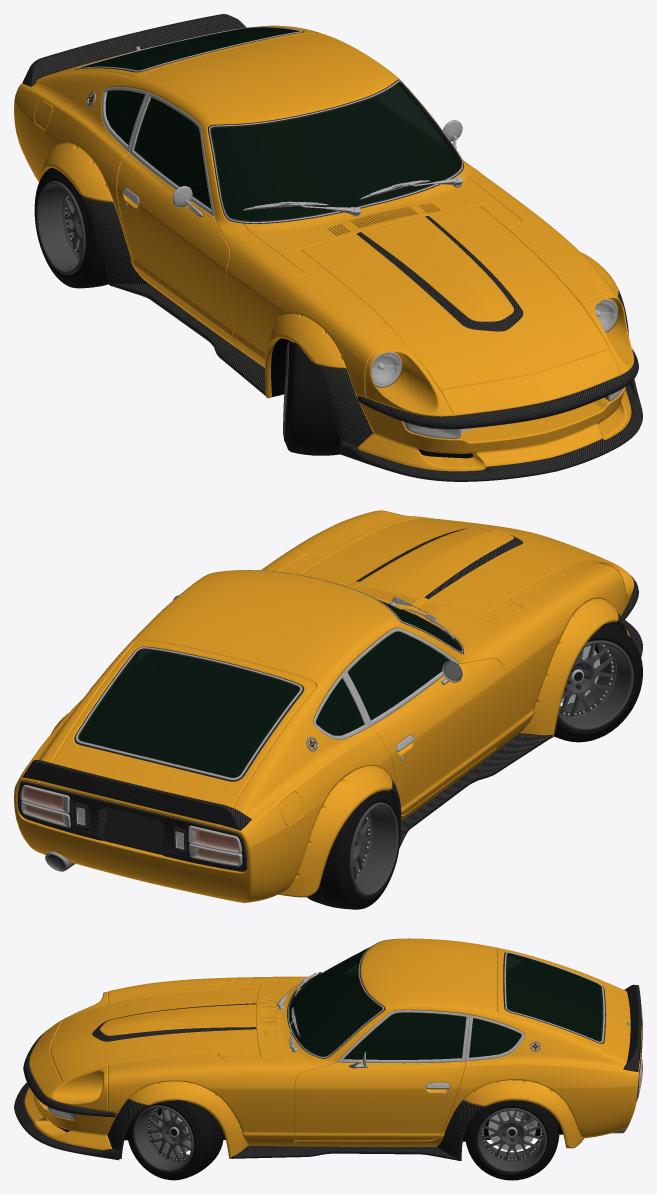
Rendered from carro.glb.
The picture shows the model from 3 angles, top to bottom: view 1: azimuth 30°, elevation 25°; view 2: azimuth 150°, elevation 25°; view 3: azimuth 270°, elevation 25°; orthographic projection. The views are drawn at different scales.
Visible parts, largest first — view 1: Object_3, Object_6, Object_5, Object_18, Object_9, Object_17, Object_7, Object_8, Object_10, Object_12; view 2: Object_3, Object_6, Object_5, Object_9, Object_18, Object_15, Object_17, Object_7, Object_8, Object_2, Object_11; view 3: Object_3, Object_6, Object_5, Object_18, Object_9, Object_14, Object_16, Object_7, Object_13.
Part boxes in pixels (x1,y1,x2,y2): Object_3: [14, 25, 633, 471]; Object_6: [80, 27, 460, 220]; Object_5: [22, 14, 642, 481]; Object_18: [34, 167, 340, 455]; Object_9: [76, 26, 463, 223]; Object_17: [36, 181, 85, 274]; Object_7: [75, 27, 463, 223]; Object_8: [371, 301, 624, 439]; Object_10: [371, 299, 618, 387]; Object_12: [271, 213, 598, 458]; Object_3: [14, 510, 633, 902]; Object_6: [79, 600, 460, 777]; Object_5: [17, 528, 642, 871]; Object_9: [20, 570, 463, 866]; Object_18: [306, 622, 642, 909]; Object_15: [558, 640, 633, 730]; Object_17: [349, 802, 398, 895]; Object_7: [74, 570, 463, 781]; Object_8: [22, 788, 239, 863]; Object_2: [24, 787, 238, 850]; Object_11: [24, 804, 239, 863]; Object_3: [24, 938, 641, 1158]; Object_6: [290, 948, 602, 1059]; Object_5: [14, 984, 642, 1160]; Object_18: [127, 1100, 559, 1180]; Object_9: [276, 941, 642, 1097]; Object_14: [133, 1105, 194, 1171]; Object_16: [477, 1108, 546, 1172]; Object_7: [287, 942, 605, 1068]; Object_13: [158, 1109, 537, 1151].
Size of the model in its own units: 1.71 by 1.03 by 3.62.
Materials: 15 (10 with a texture image).
